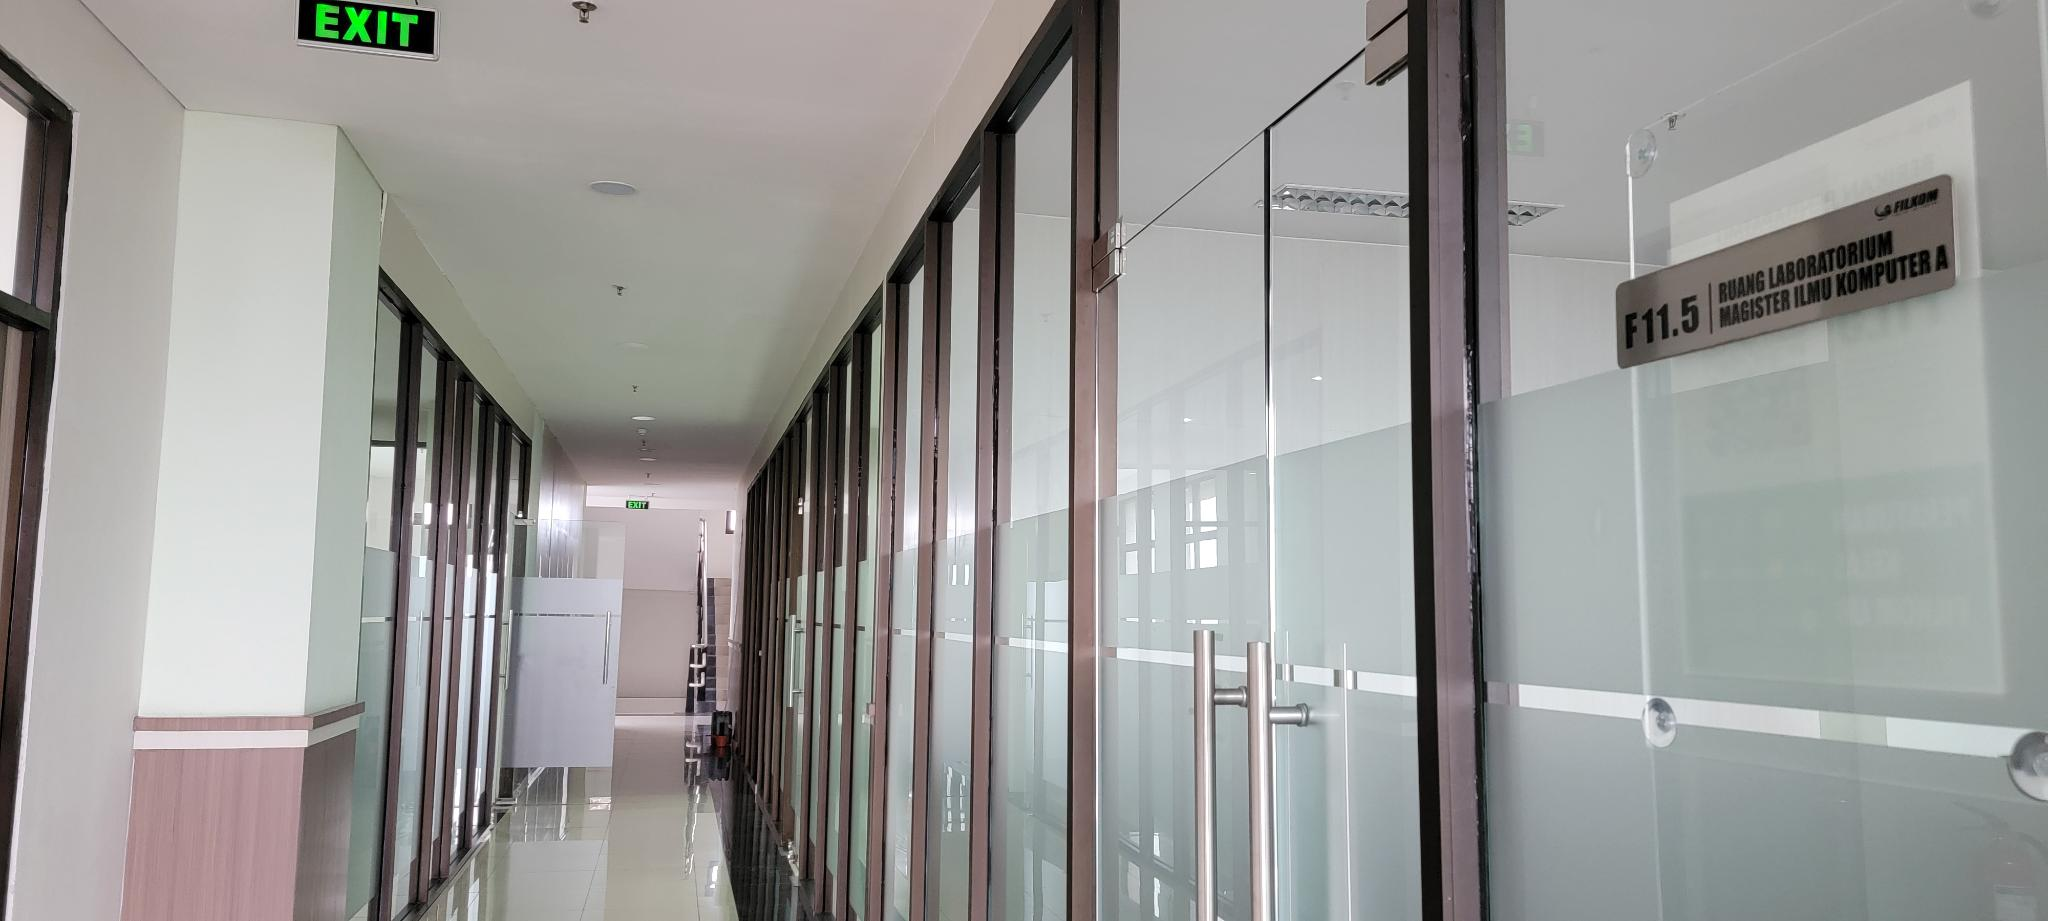plate: (1614, 171, 1958, 371)
